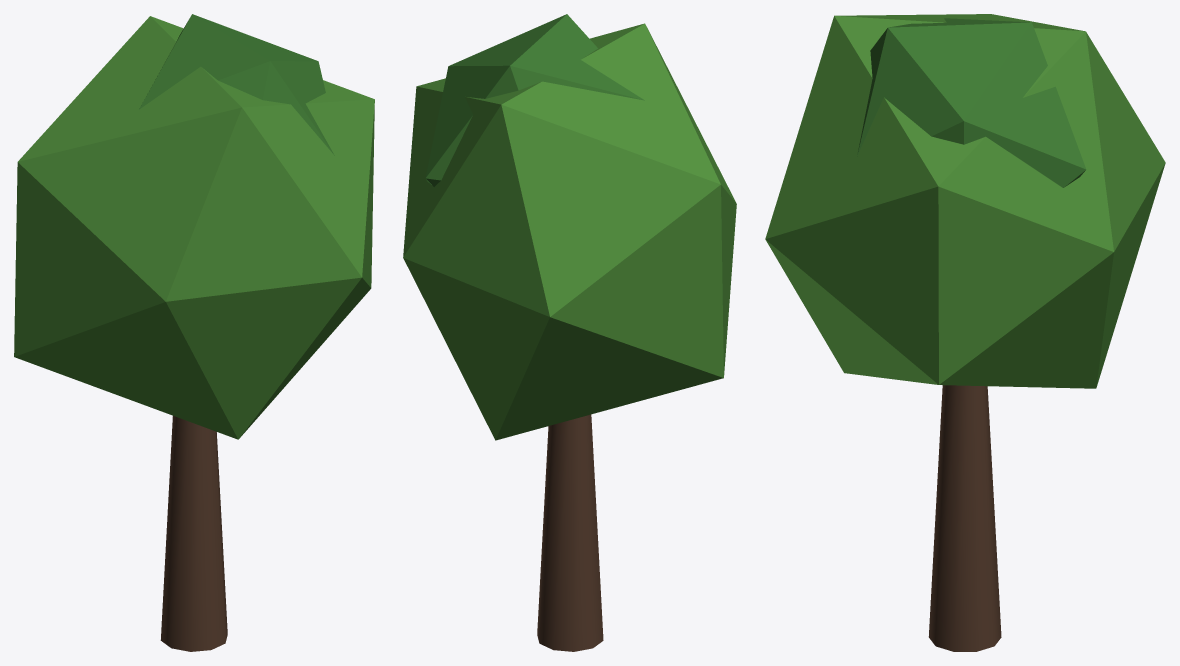
The model's file is tree_oak_01_lod1.glb.
3 views of the same model, side by side, from view 1: azimuth 30°, elevation 25°; view 2: azimuth 150°, elevation 25°; view 3: azimuth 270°, elevation 25° (orthographic). The views are drawn at different scales.
Parts seen in each view (by area): view 1: tree_oak_01_lod1_foliage (×2), tree_oak_01_lod1_bark; view 2: tree_oak_01_lod1_foliage (×2), tree_oak_01_lod1_bark; view 3: tree_oak_01_lod1_foliage (×2), tree_oak_01_lod1_bark.
Boxes of the visible parts, x1,y1,x2,y2 form: tree_oak_01_lod1_foliage (×2): (14, 14, 374, 439); tree_oak_01_lod1_bark: (160, 416, 227, 651); tree_oak_01_lod1_foliage (×2): (403, 14, 736, 440); tree_oak_01_lod1_bark: (537, 414, 603, 651); tree_oak_01_lod1_foliage (×2): (765, 14, 1165, 388); tree_oak_01_lod1_bark: (928, 385, 1001, 651).
Size of the model in its own units: 3.85 by 6.5 by 3.74.
